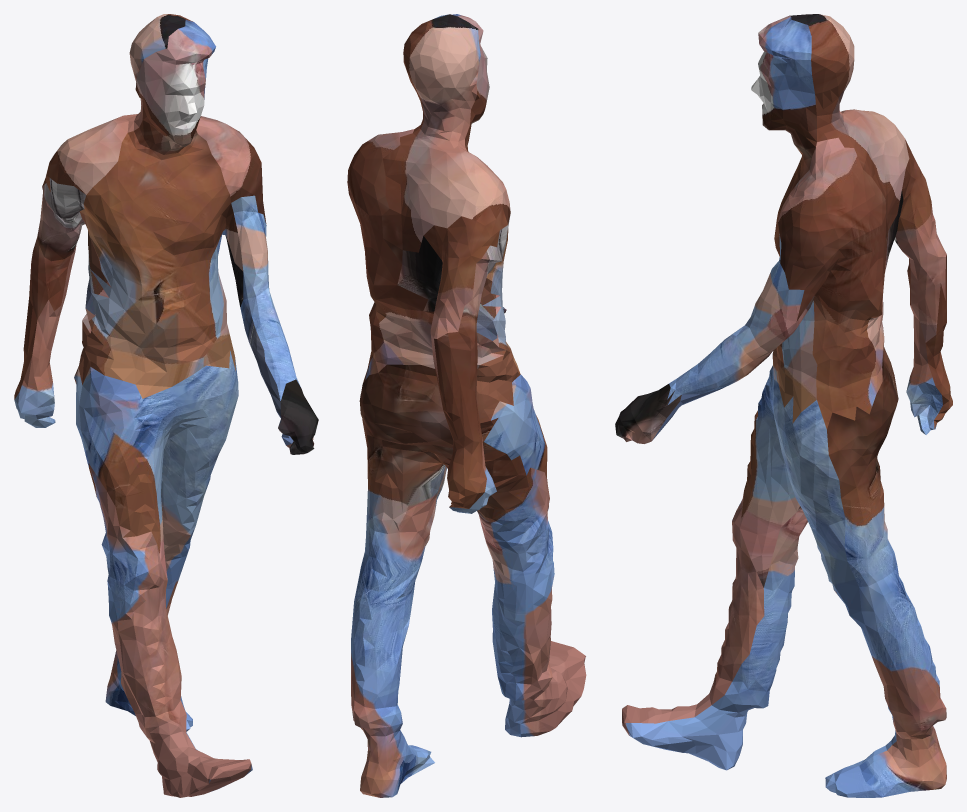
The picture shows the model from 3 angles, left to right: view 1: azimuth 30°, elevation 25°; view 2: azimuth 150°, elevation 25°; view 3: azimuth 270°, elevation 25°; orthographic projection. The views are drawn at different scales.
Visible parts, largest first — view 1: m_3; view 2: m_3; view 3: m_3.
Part boxes in pixels (bbox=[...]): m_3: bbox=[14, 14, 318, 797]; m_3: bbox=[347, 14, 586, 797]; m_3: bbox=[615, 14, 952, 797].
Size of the model in its own units: 0.4698 by 1.74 by 0.6913.
Materials: 1 (1 with a texture image).
